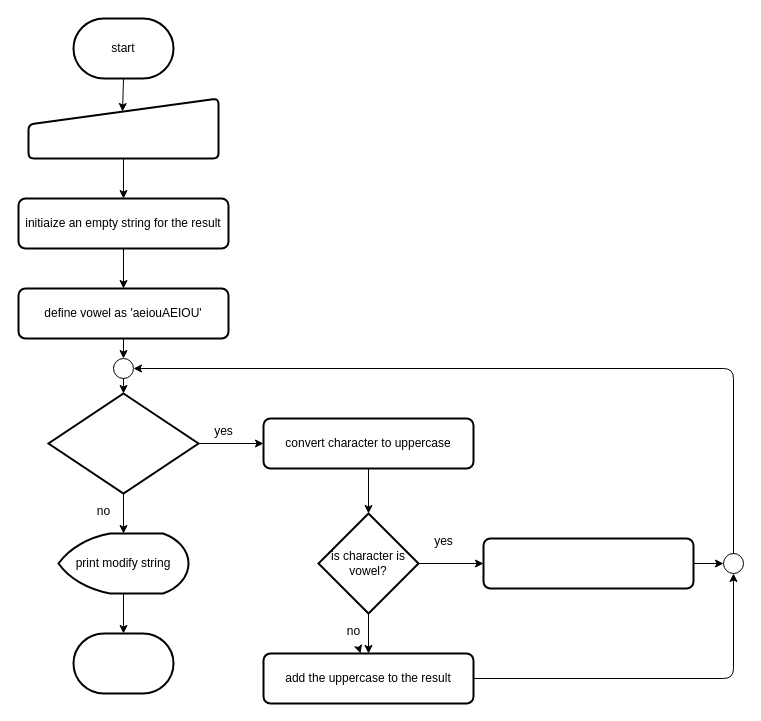
Some shapes in this 761 by 721 pixel diagram are drawn without their labels. The shapes that lost their labels are listed below. From the top down, each one's centre as x and y in pixels, then its label:
At point 123,128: "read input string from usser".
At point 123,443: "more character in tring?".
At point 588,563: "add an asterisk to the result".
At point 123,663: "end".
